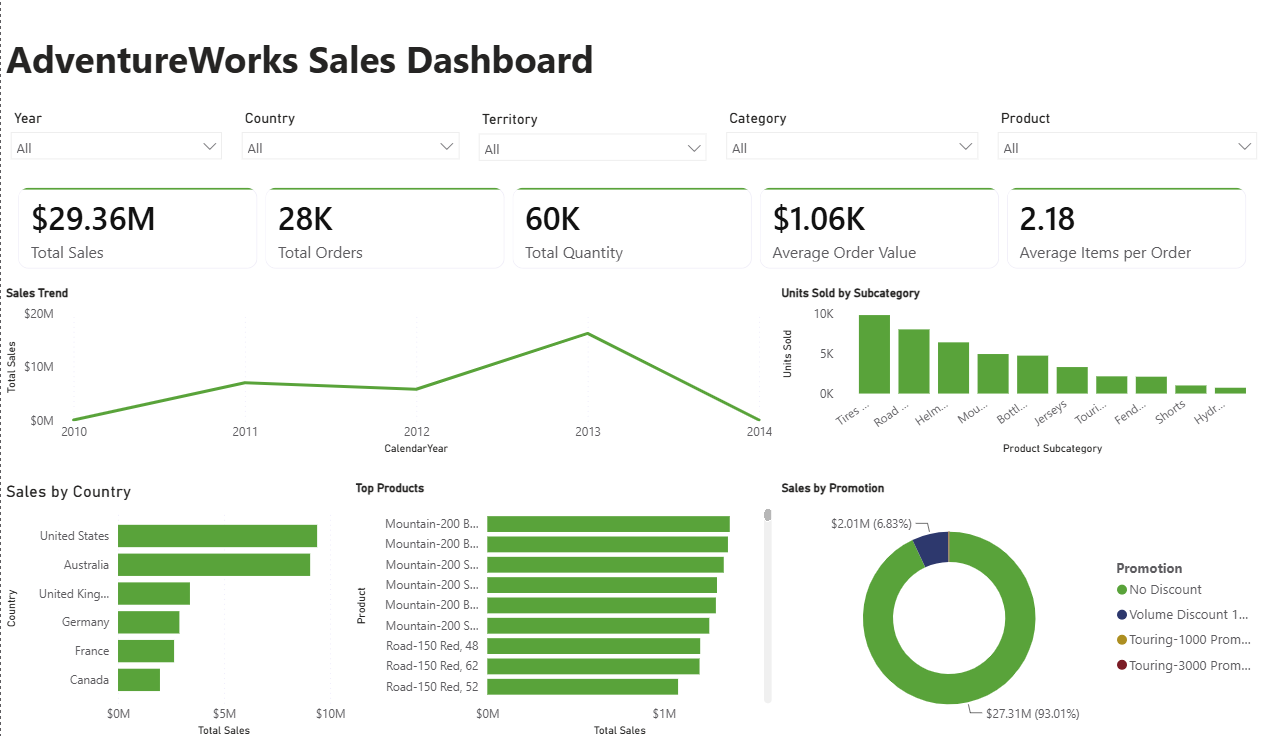

Layout of this report page (visuals, bound fields, positions):
{"tool":"powerbi","page":{"name":"Sales Dashboard","canvas":[1280,720],"ordinal":0},"visuals":[{"type":"textbox","box":[0,0,1278.4,67.1],"z":0},{"type":"cardVisual","fields":{"Data":["_Measures.Total Sales","_Measures.Total Orders","_Measures.Total Quantity","_Measures.Average Order Value","_Measures.Average Items per Order"]},"box":[0,144.1,1280.3,116.8],"z":1000},{"type":"slicer","fields":{"Values":["DimDate.Calendar.CalendarYear"]},"box":[0,77.4,233.6,65.2],"z":2000},{"type":"slicer","fields":{"Values":["DimProduct.EnglishProductName"]},"box":[998.1,77.4,282.1,65.2],"z":3000},{"type":"slicer","fields":{"Values":["FactSurveyResponse.EnglishProductCategoryName"]},"box":[723.6,77.4,274.6,65.2],"z":4000},{"type":"slicer","title":"Country","fields":{"Values":["DimGeography.EnglishCountryRegionName"]},"box":[233.6,77.4,239.7,65.2],"z":5000},{"type":"slicer","fields":{"Values":["DimSalesTerritory.SalesTerritoryGroup"]},"box":[473.3,78.9,250.3,65.2],"z":6000},{"type":"lineChart","title":"Sales Trend","fields":{"Category":["DimDate.Calendar.CalendarYear"],"Y":["_Measures.Total Sales"]},"box":[0,260.9,784.2,174.4],"z":7000},{"type":"clusteredColumnChart","title":"Sales by Category","fields":{"Category":["FactSurveyResponse.EnglishProductCategoryName"],"Y":["_Measures.Total Sales"]},"box":[784.2,260.9,496,174.4],"z":8000},{"type":"barChart","title":"Top Products","fields":{"Category":["DimProduct.EnglishProductName"],"Y":["_Measures.Total Sales"]},"box":[353.4,458.1,430.8,262.4],"z":9000},{"type":"donutChart","title":"Sales by Promotion","fields":{"Category":["DimPromotion.EnglishPromotionName"],"Y":["_Measures.Total Sales"]},"box":[784.2,458.1,494.5,262.4],"z":10000},{"type":"barChart","title":"Sales by Country","fields":{"Category":["DimGeography.EnglishCountryRegionName"],"Y":["_Measures.Total Sales"]},"box":[0,458.1,353.4,262.4],"z":11000}]}

Visuals, with their boxes on the page's 1280x720 design canvas (x1, y1, x2, y2). These are canvas units, not pixel positions in the 1266x736 screenshot, which may show the page scaled, cropped or inside an application window:
textbox: x1=0 y1=0 x2=1278 y2=67
cardVisual - _Measures.Total Sales x _Measures.Total Orders: x1=0 y1=144 x2=1280 y2=261
slicer - DimDate.Calendar.CalendarYear: x1=0 y1=77 x2=234 y2=143
slicer - DimProduct.EnglishProductName: x1=998 y1=77 x2=1280 y2=143
slicer - FactSurveyResponse.EnglishProductCategoryName: x1=724 y1=77 x2=998 y2=143
"Country" slicer: x1=234 y1=77 x2=473 y2=143
slicer - DimSalesTerritory.SalesTerritoryGroup: x1=473 y1=79 x2=724 y2=144
"Sales Trend" lineChart: x1=0 y1=261 x2=784 y2=435
"Sales by Category" clusteredColumnChart: x1=784 y1=261 x2=1280 y2=435
"Top Products" barChart: x1=353 y1=458 x2=784 y2=720
"Sales by Promotion" donutChart: x1=784 y1=458 x2=1279 y2=720
"Sales by Country" barChart: x1=0 y1=458 x2=353 y2=720
